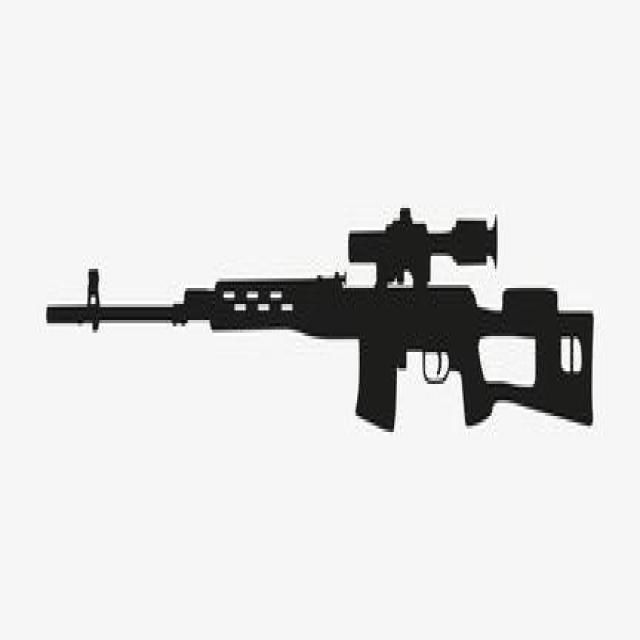Rifle: (46, 208, 594, 435)
